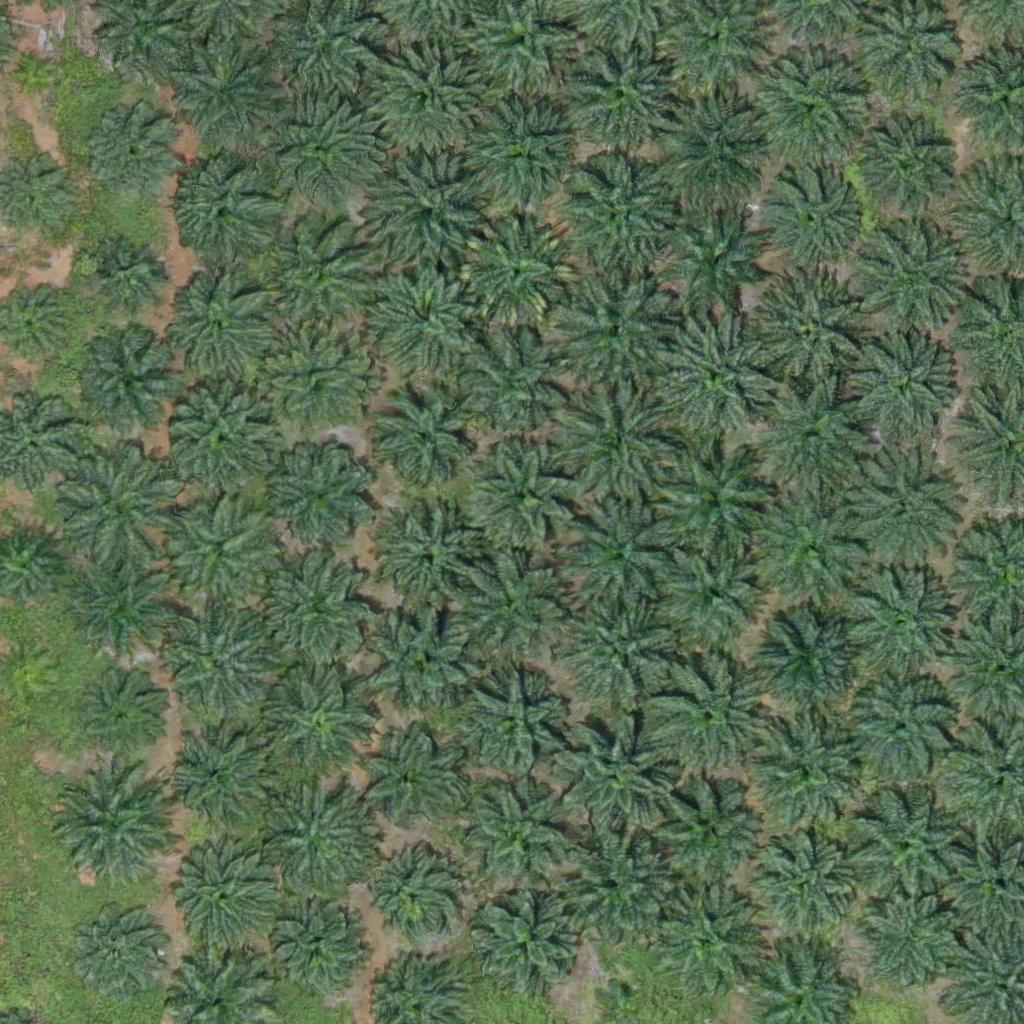Kelapa_Sawit: (743, 267, 868, 393), (751, 378, 876, 504), (647, 313, 772, 439), (651, 83, 776, 209), (555, 29, 680, 155), (555, 148, 680, 274), (553, 268, 678, 394), (543, 383, 668, 509), (53, 442, 178, 568), (46, 762, 171, 888), (456, 776, 581, 902), (559, 491, 684, 617), (557, 585, 682, 711), (552, 720, 677, 846), (552, 835, 677, 961), (649, 430, 774, 556), (653, 529, 778, 655), (649, 650, 774, 776), (639, 763, 764, 889), (741, 485, 866, 611), (835, 567, 960, 693), (838, 444, 963, 570), (840, 787, 965, 913), (258, 777, 383, 902), (467, 92, 580, 206), (741, 824, 854, 938), (753, 717, 866, 831), (854, 886, 967, 1000), (262, 218, 375, 331), (256, 324, 369, 437), (168, 385, 281, 498), (158, 269, 271, 382), (168, 153, 281, 266), (173, 35, 286, 148), (266, 435, 379, 548), (374, 505, 487, 618), (261, 550, 374, 663), (261, 663, 374, 776), (359, 601, 472, 714), (473, 891, 586, 1004), (756, 605, 869, 718), (370, 44, 482, 158), (453, 552, 565, 666), (842, 328, 954, 441), (858, 222, 970, 335), (755, 57, 867, 170), (461, 214, 573, 327), (460, 330, 572, 443), (367, 383, 479, 496), (367, 259, 479, 372), (374, 157, 486, 270), (265, 92, 377, 205), (468, 439, 580, 552), (166, 501, 278, 614), (67, 552, 179, 665), (162, 608, 274, 721), (164, 841, 276, 954), (455, 665, 567, 778), (652, 891, 764, 1004), (846, 675, 958, 788), (858, 116, 958, 217), (763, 166, 863, 267), (86, 103, 186, 204), (78, 334, 178, 435), (67, 901, 167, 1002), (170, 729, 270, 830), (268, 901, 368, 1002), (358, 729, 458, 830), (360, 846, 460, 947), (665, 207, 765, 307), (79, 666, 166, 754), (90, 238, 165, 313), (24, 54, 62, 92)
